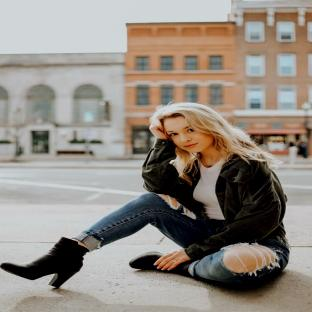Human: (1, 102, 289, 287)
